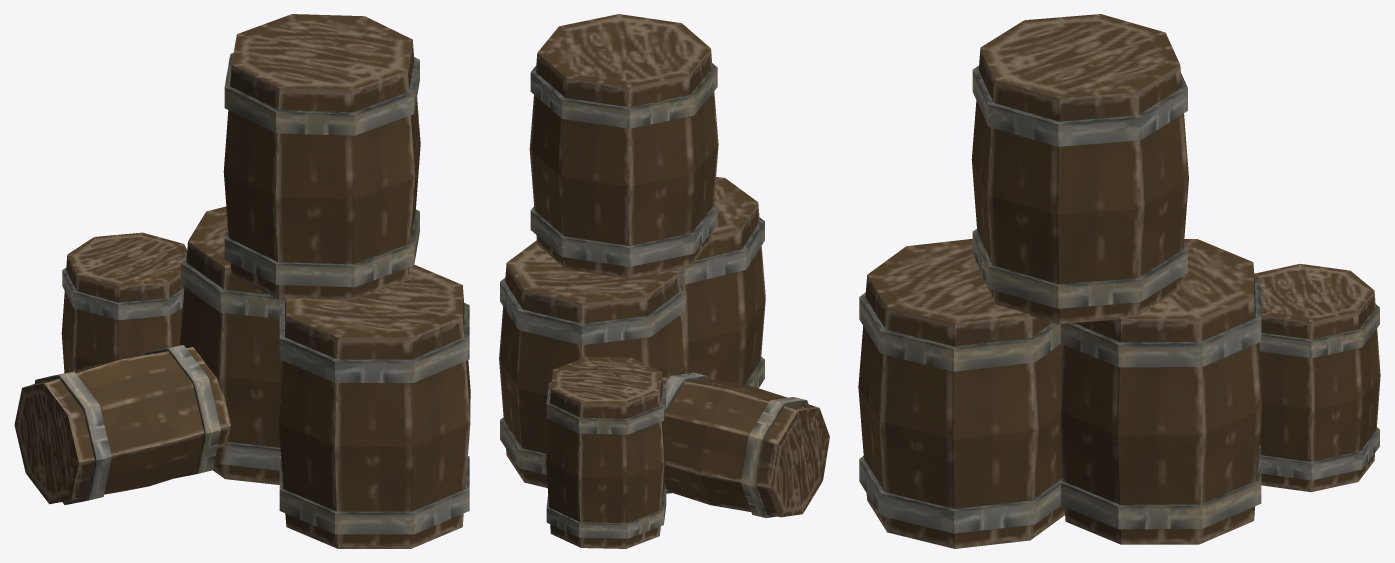
Rendered from barrels_004.obj.
3 views of the same model, side by side, from view 1: azimuth 30°, elevation 25°; view 2: azimuth 150°, elevation 25°; view 3: azimuth 270°, elevation 25° (orthographic). The views are drawn at different scales.
Parts seen in each view (by area): view 1: barrels_004; view 2: barrels_004; view 3: barrels_004.
Boxes of the visible parts, box(x1,y1,x2,y2) form: barrels_004: box(14, 14, 470, 548); barrels_004: box(499, 14, 829, 548); barrels_004: box(858, 14, 1380, 548).
Size of the model in its own units: 3.21 by 4.05 by 4.19.
